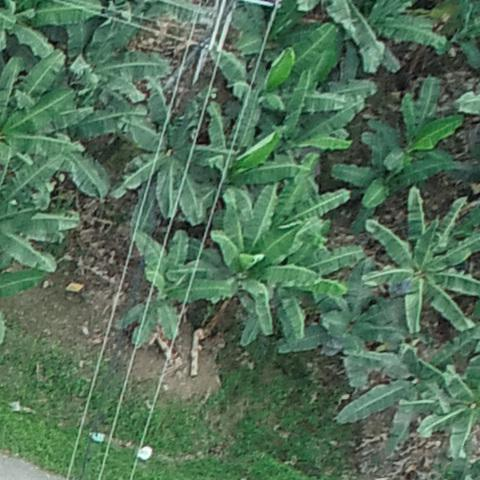Banana-plant: (206, 185, 348, 327), (367, 187, 480, 334), (212, 20, 349, 122), (125, 97, 229, 225), (60, 22, 166, 144), (344, 340, 455, 455), (206, 101, 310, 207), (288, 265, 391, 369), (2, 59, 80, 179), (370, 83, 463, 167), (134, 234, 203, 341), (0, 0, 101, 54), (433, 363, 480, 457)
